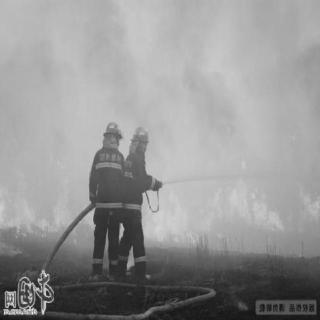Fire: (5, 154, 93, 240)
